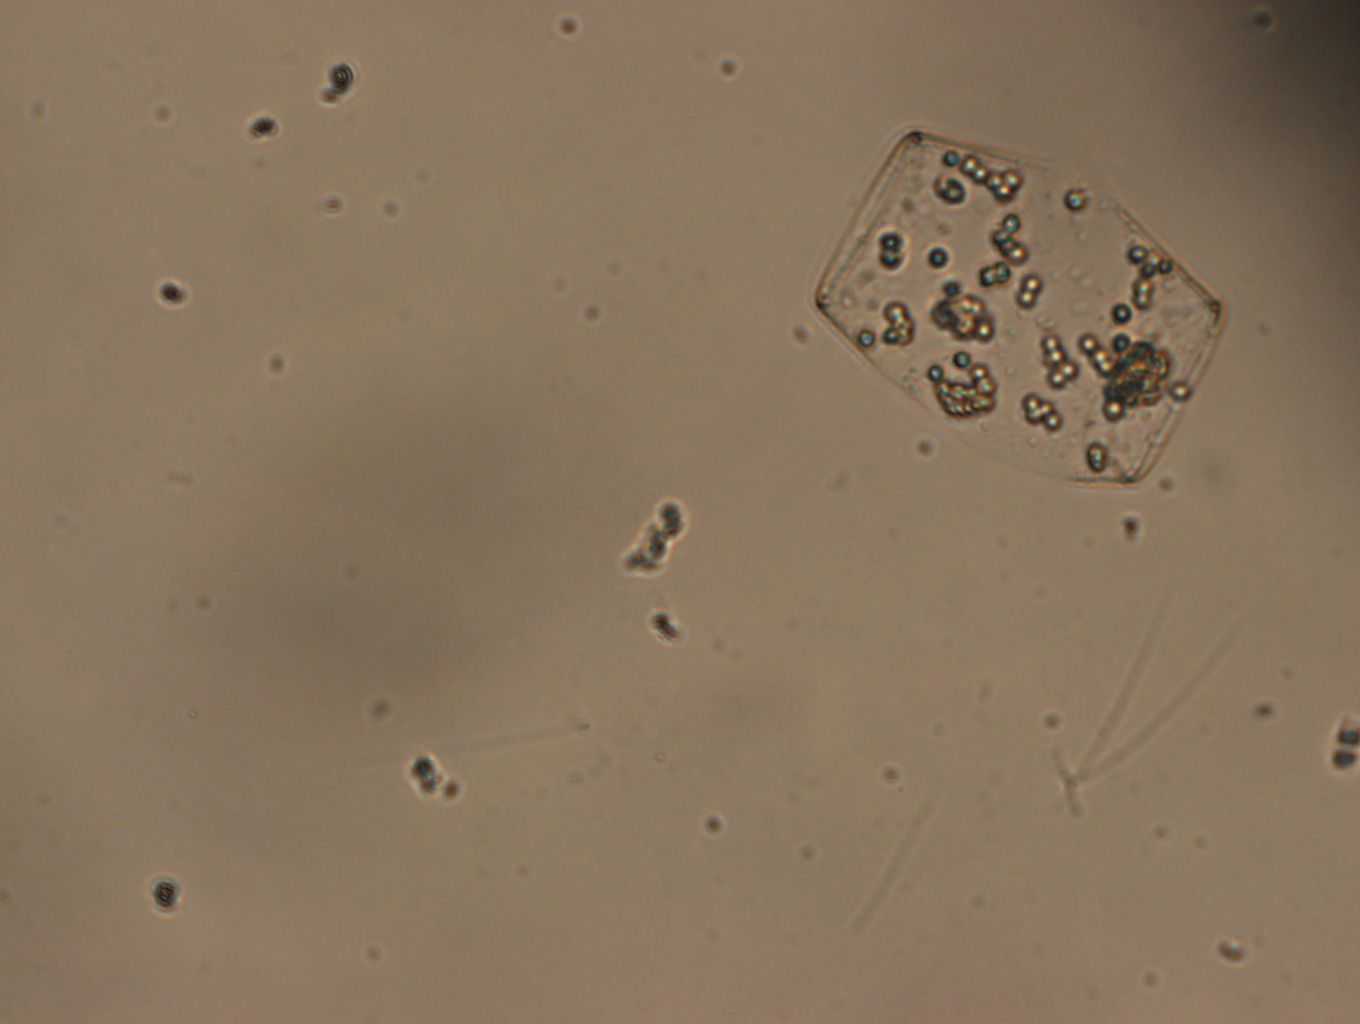guinardia flaccida: (794, 106, 1232, 498)
